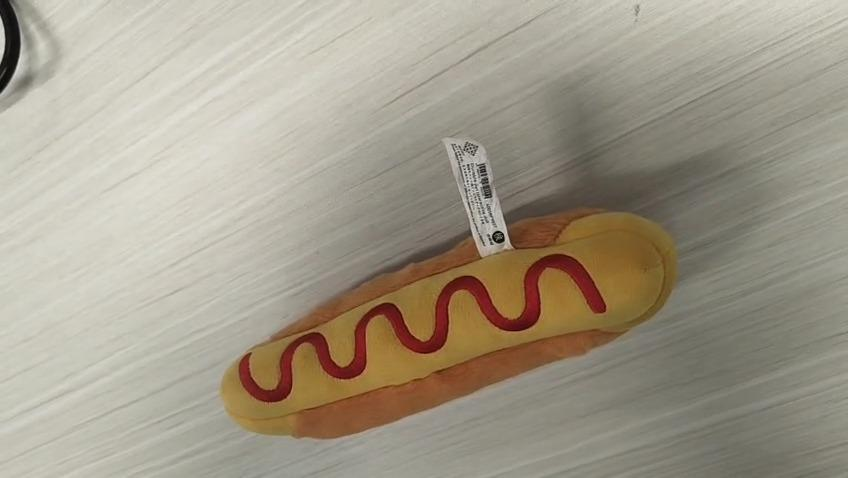hotdog: (219, 204, 678, 440)
